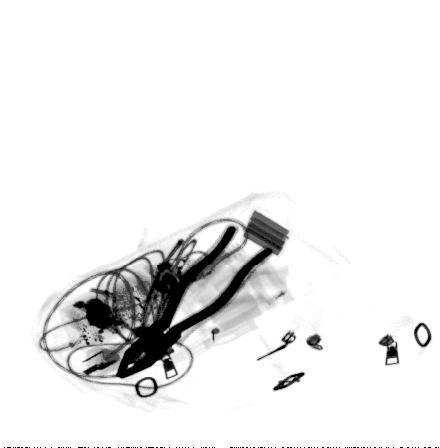Pliers: (115, 222, 275, 380)
